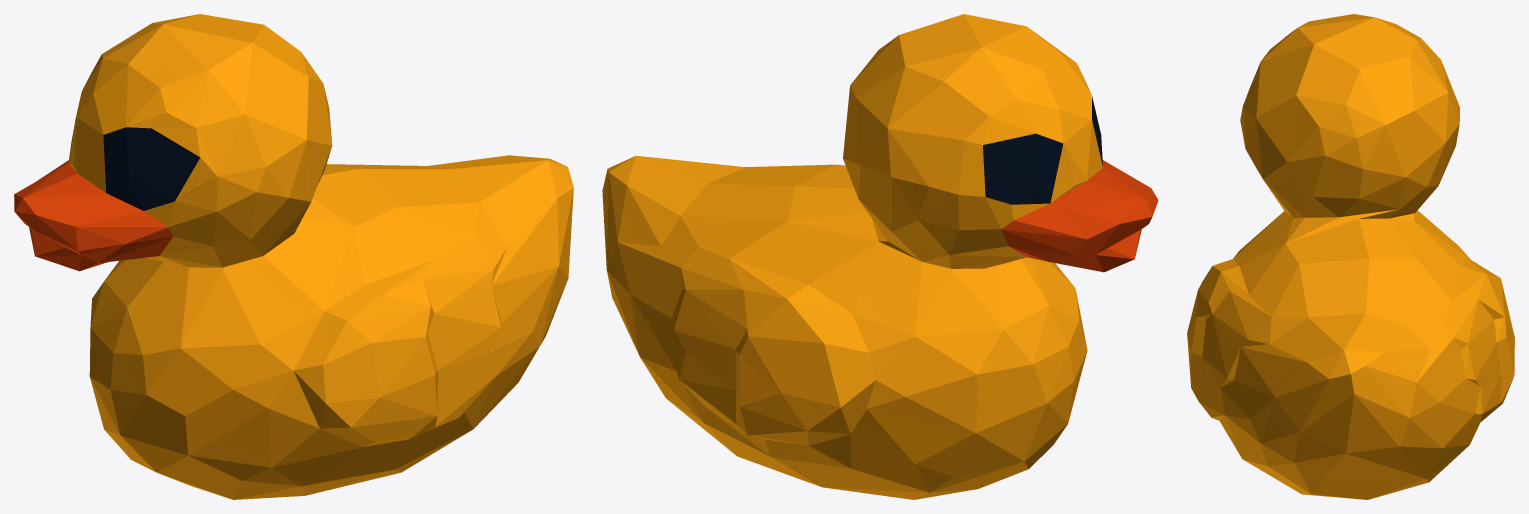
The model's file is duck.fbx.
The picture shows the model from 3 angles, left to right: view 1: azimuth 30°, elevation 25°; view 2: azimuth 150°, elevation 25°; view 3: azimuth 270°, elevation 25°; orthographic projection. The views are drawn at different scales.
Parts seen in each view (by area): view 1: rubber duck; view 2: rubber duck; view 3: rubber duck.
Part boxes in pixels (x1,y1,x2,y2): rubber duck: (14,14,573,499); rubber duck: (602,14,1158,499); rubber duck: (1187,14,1514,499).
Size of the model in its own units: 500 by 401 by 300.
